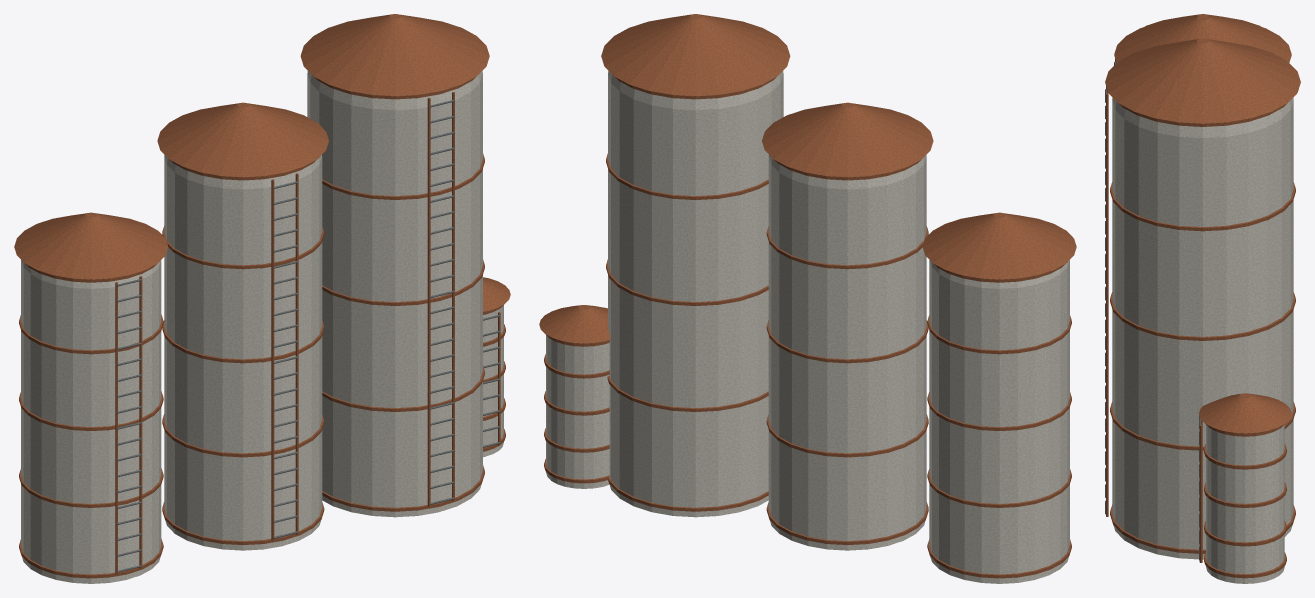
Rendered from GRNTNK2_lod1.glb.
3 views of the same model, side by side, from view 1: azimuth 30°, elevation 25°; view 2: azimuth 150°, elevation 25°; view 3: azimuth 270°, elevation 25° (orthographic). The views are drawn at different scales.
Visible parts, largest first — view 1: GRNTNK2_LOD1; view 2: GRNTNK2_LOD1; view 3: GRNTNK2_LOD1.
Boxes of the visible parts, x1,y1,x2,y2 form: GRNTNK2_LOD1: (14,14,510,583); GRNTNK2_LOD1: (539,14,1076,583); GRNTNK2_LOD1: (1105,14,1300,583).
Size of the model in its own units: 9.89 by 8.75 by 3.24.
3 materials, 3 textured.
